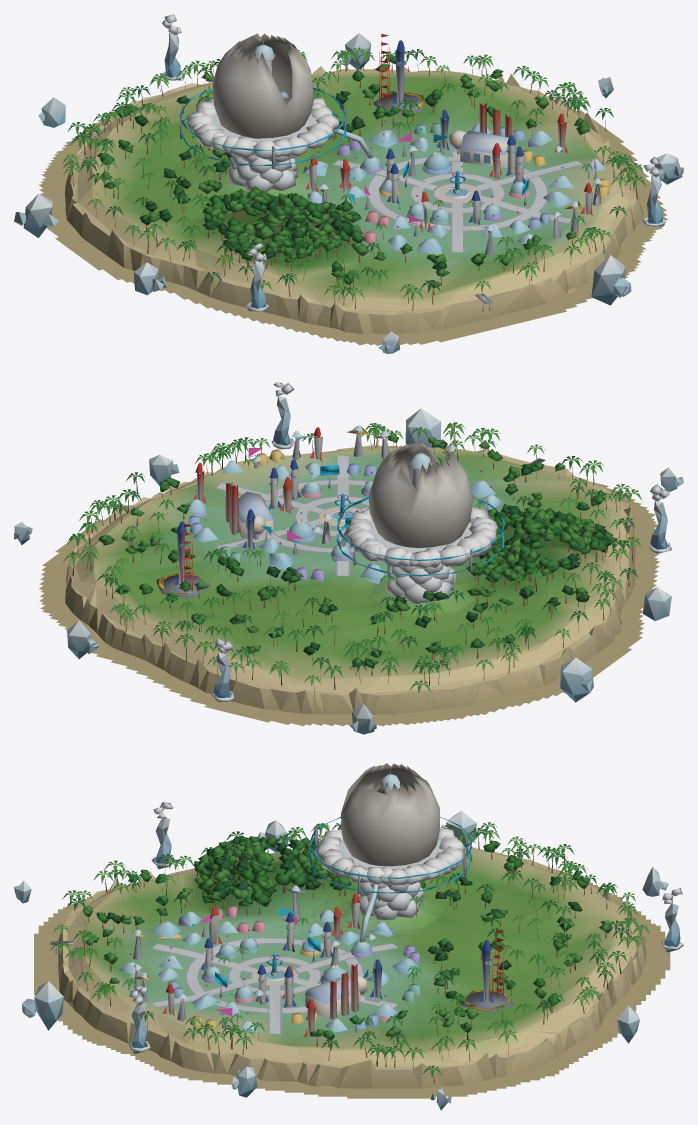
3 views of the same model, one above another, from view 1: azimuth 30°, elevation 25°; view 2: azimuth 150°, elevation 25°; view 3: azimuth 270°, elevation 25° (orthographic). The views are drawn at different scales.
Parts seen in each view (by area): view 1: BASE, VILLE_3, VILLE_2, VILLE_4; view 2: BASE, VILLE_3, VILLE_4, VILLE_2; view 3: BASE, VILLE_3, VILLE_2, VILLE_4.
Boxes of the visible parts, left/top/right/bottom form: BASE: left=14, top=14, right=683, bottom=353; VILLE_3: left=303, top=109, right=610, bottom=255; VILLE_2: left=346, top=128, right=574, bottom=237; VILLE_4: left=373, top=33, right=424, bottom=115; BASE: left=14, top=382, right=683, bottom=734; VILLE_3: left=187, top=425, right=503, bottom=583; VILLE_4: left=156, top=521, right=210, bottom=597; VILLE_2: left=238, top=452, right=376, bottom=553; BASE: left=14, top=763, right=683, bottom=1110; VILLE_3: left=119, top=885, right=420, bottom=1037; VILLE_2: left=158, top=905, right=390, bottom=1023; VILLE_4: left=460, top=929, right=513, bottom=1012.
Size of the model in its own units: 68.82 by 20.81 by 69.5.
